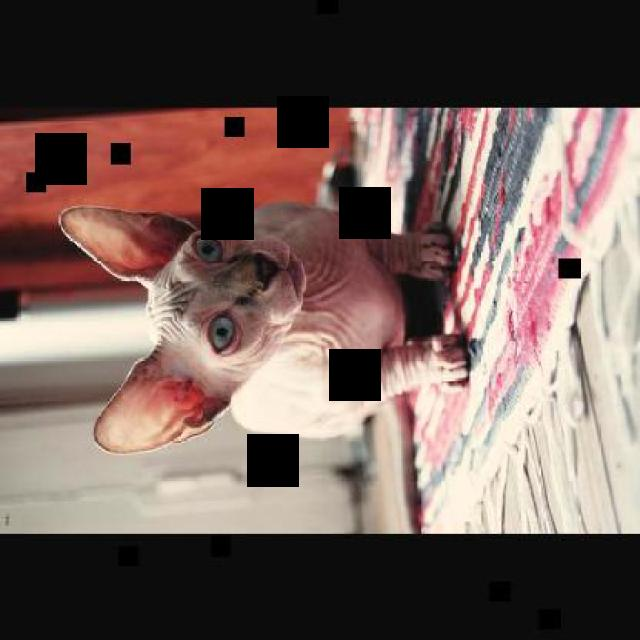unauthorized: (57, 197, 472, 455)
